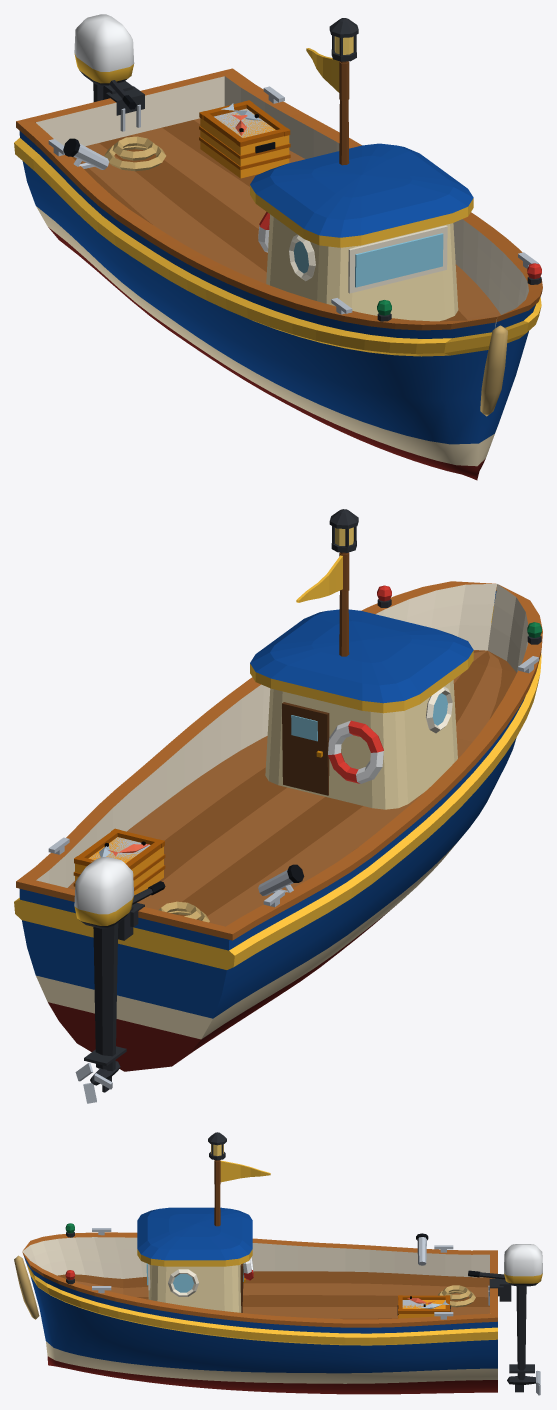
File: boat.glb
3 views of the same model, one above another, from view 1: azimuth 30°, elevation 25°; view 2: azimuth 150°, elevation 25°; view 3: azimuth 270°, elevation 25° (orthographic). The views are drawn at different scales.
Visible parts, largest first — view 1: hull, canopy, deck, engine, flag, lantern; view 2: hull, canopy, deck, engine, flag, lantern; view 3: hull, deck, canopy, engine, flag, lantern.
Part boxes in pixels (<box>): hull: <box>14,68,542,480</box>; canopy: <box>250,61,473,321</box>; deck: <box>48,86,541,321</box>; engine: <box>74,14,144,131</box>; flag: <box>306,48,349,100</box>; lantern: <box>329,18,358,61</box>; hull: <box>14,581,542,1071</box>; canopy: <box>250,552,473,809</box>; deck: <box>48,585,541,926</box>; engine: <box>74,857,165,1103</box>; flag: <box>296,552,349,602</box>; lantern: <box>329,509,358,552</box>; hull: <box>14,1232,497,1394</box>; deck: <box>58,1223,489,1319</box>; canopy: <box>137,1160,253,1312</box>; engine: <box>468,1244,542,1395</box>; flag: <box>214,1160,270,1185</box>; lantern: <box>208,1132,226,1160</box>.
Bounding box in the file's own units: 3 × 4.5 × 8.26.
